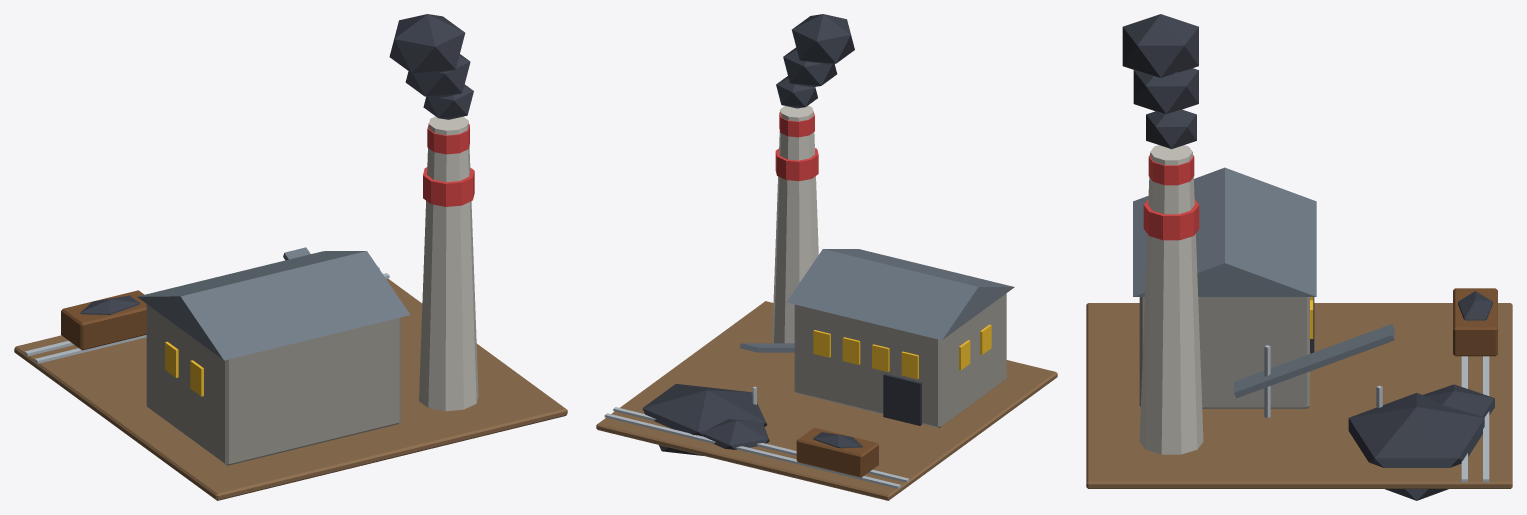
The model's file is coal_plant.glb.
The picture shows the model from 3 angles, left to right: view 1: azimuth 30°, elevation 25°; view 2: azimuth 150°, elevation 25°; view 3: azimuth 270°, elevation 25°; orthographic projection. The views are drawn at different scales.
Visible parts, largest first — view 1: corpo; view 2: corpo; view 3: corpo.
Boxes of the visible parts, x1=… form: corpo: x1=14, y1=14, x2=567, y2=500; corpo: x1=596, y1=14, x2=1057, y2=500; corpo: x1=1086, y1=14, x2=1512, y2=500.
Size of the model in its own units: 4 by 4.8 by 4.
